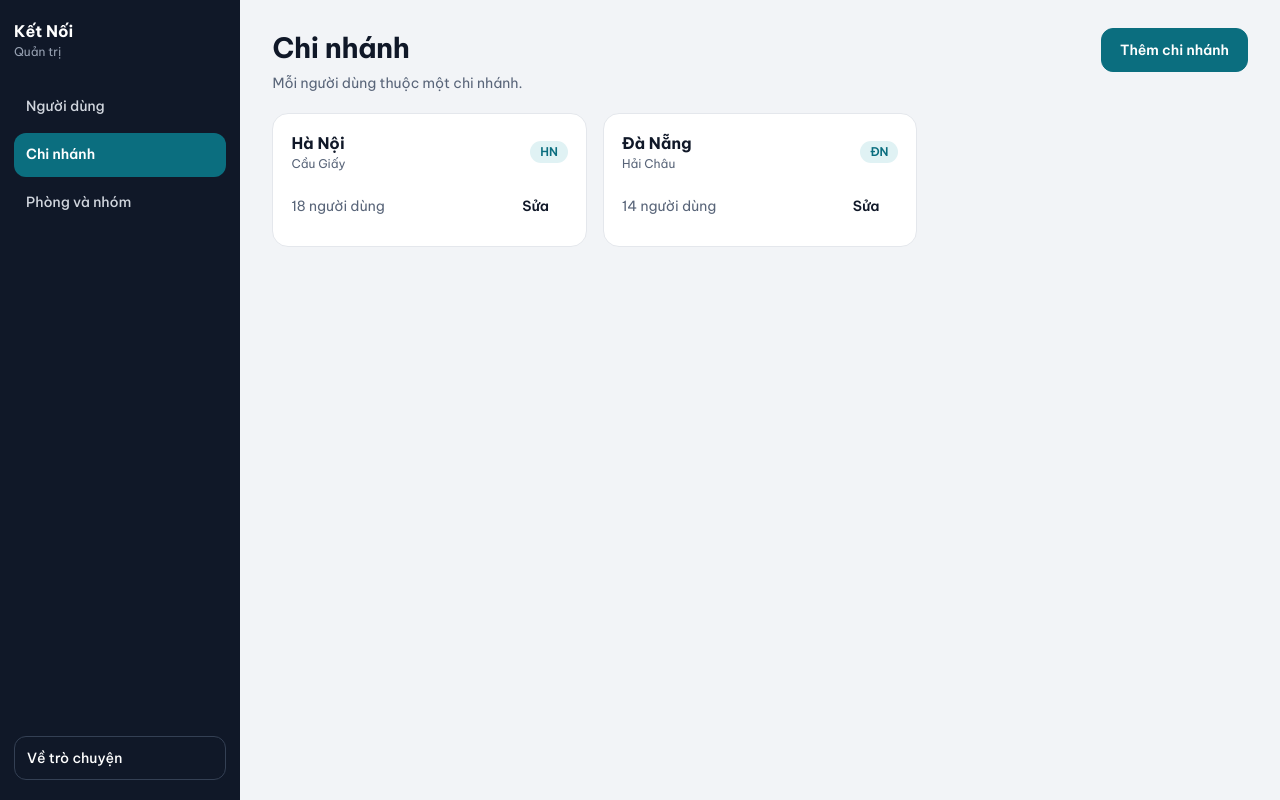
Test: BranchesPage › explains why a branch that still has users cannot be deleted
The image size is (1280, 800).
Check: the text "Đà Nẵng" is shown, box [622,132,692,155]
Click the button with aria-label "Sửa Hà Nội" at coordinates (536, 206), box [503,184,568,228]
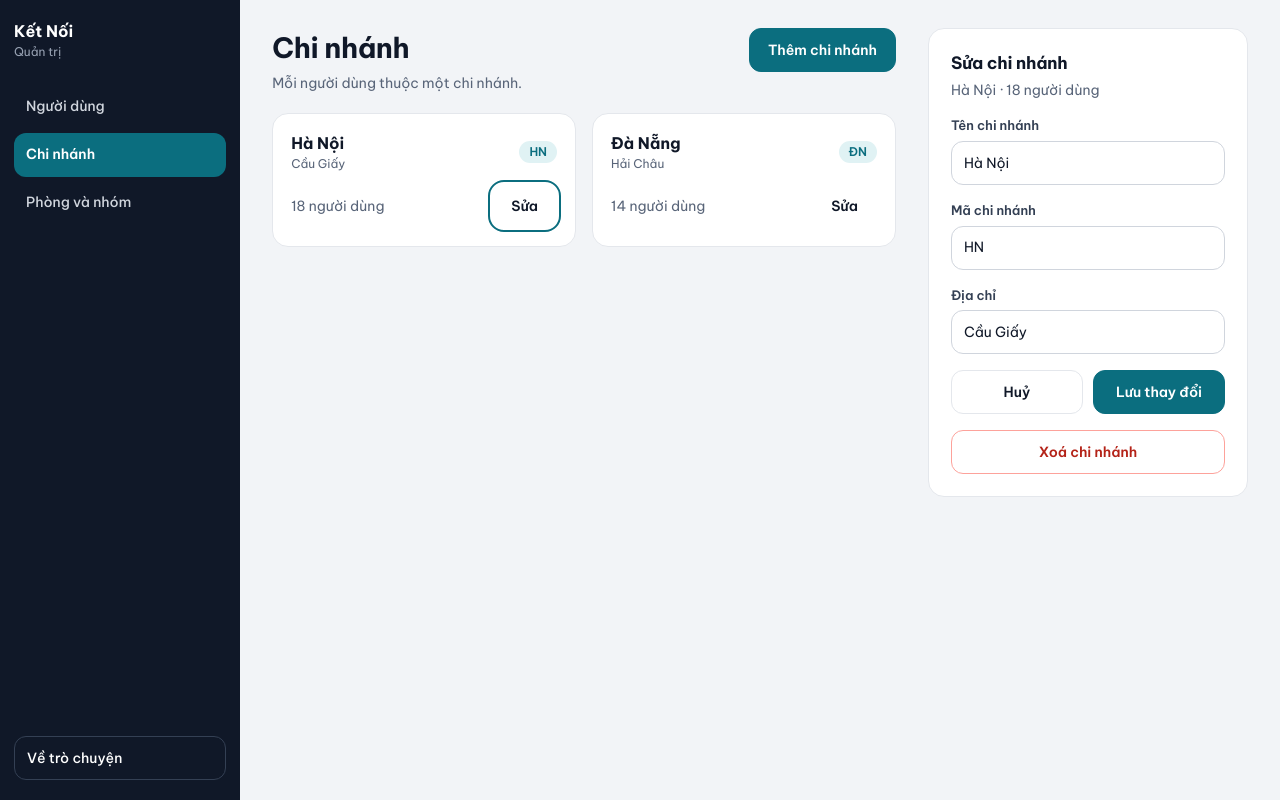
Click the button "Xoá chi nhánh" at coordinates (1088, 452), box [951,430,1225,474]
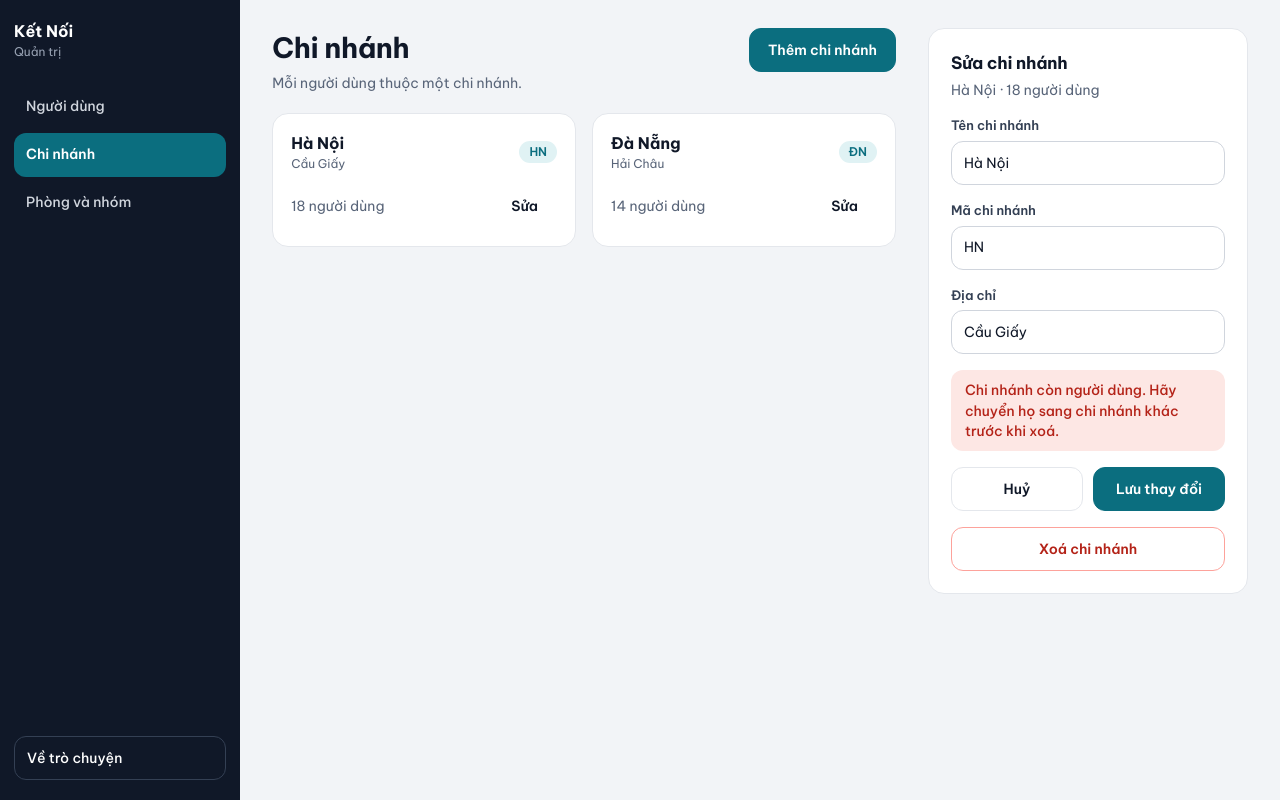
Check: the message shows "Chi nhánh còn người dùng", box [965,382,1179,440]
